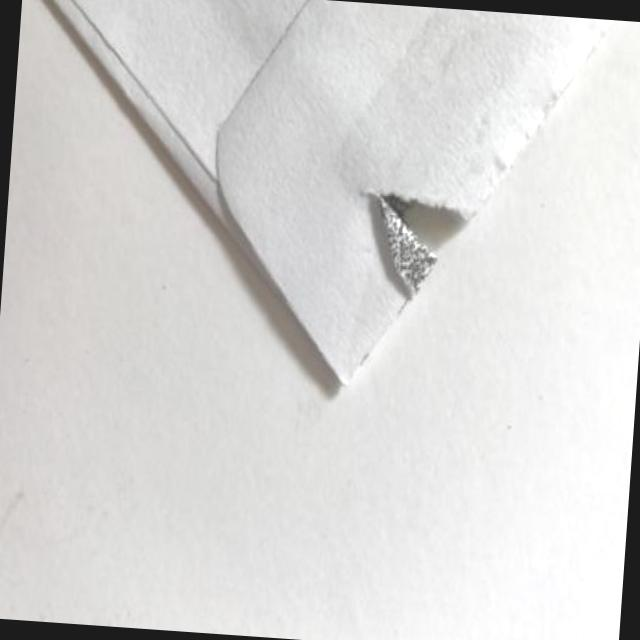giay: (50, 0, 617, 395)
